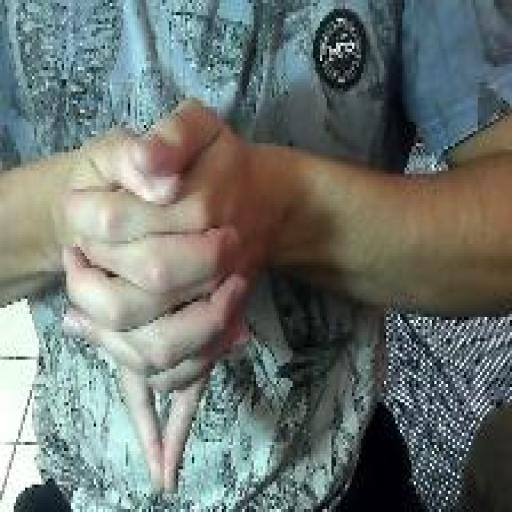Tatsu -dragon-: (58, 91, 255, 503)
